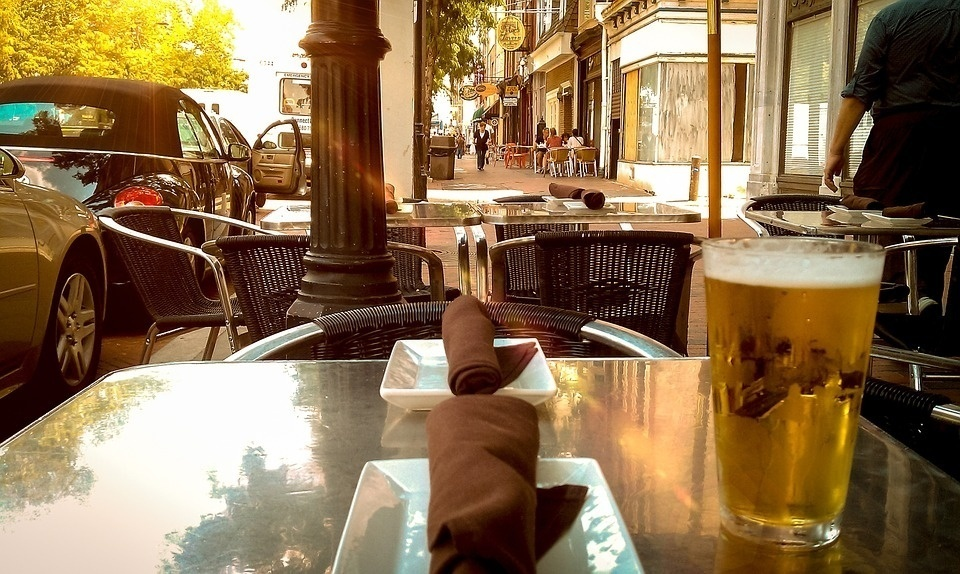whiskey: (693, 233, 893, 540)
